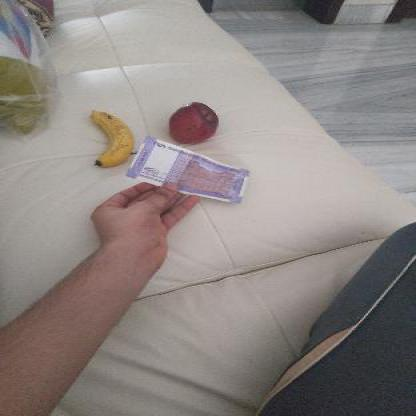New100Back: (135, 131, 249, 202)
